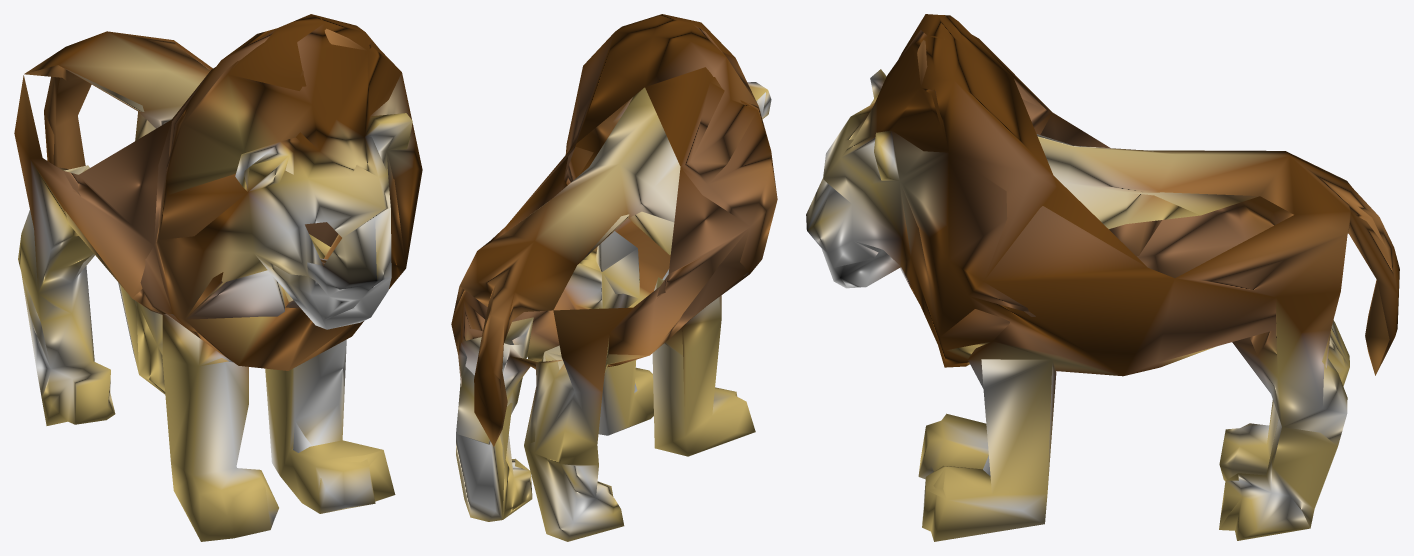
Rendered from gen3d-male-lion-lod1.glb.
3 renders of one model, left to right at view 1: azimuth 30°, elevation 25°; view 2: azimuth 150°, elevation 25°; view 3: azimuth 270°, elevation 25°, orthographic. The views are drawn at different scales.
Visible parts, largest first — view 1: part_0; view 2: part_0; view 3: part_0.
Boxes of the visible parts, x1,y1,x2,y2 form: part_0: [14, 14, 422, 541]; part_0: [451, 14, 777, 541]; part_0: [806, 14, 1399, 541].
Size of the model in its own units: 0.5533 by 1 by 1.13.
